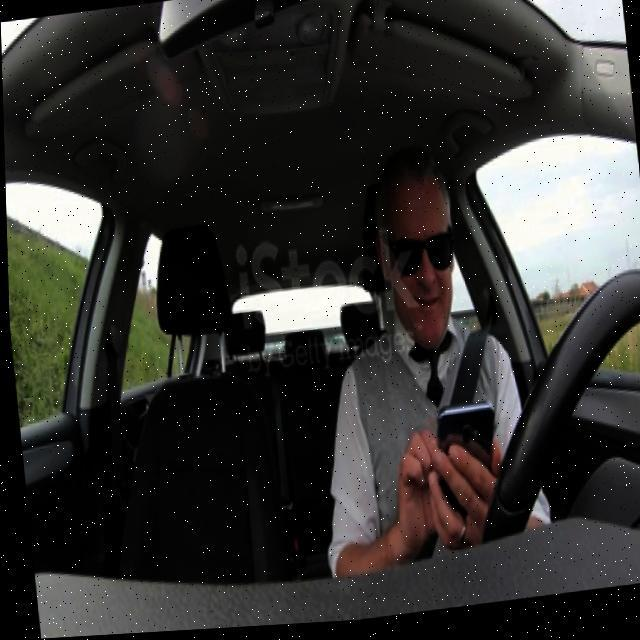PhoneCall: (432, 402, 501, 526)
